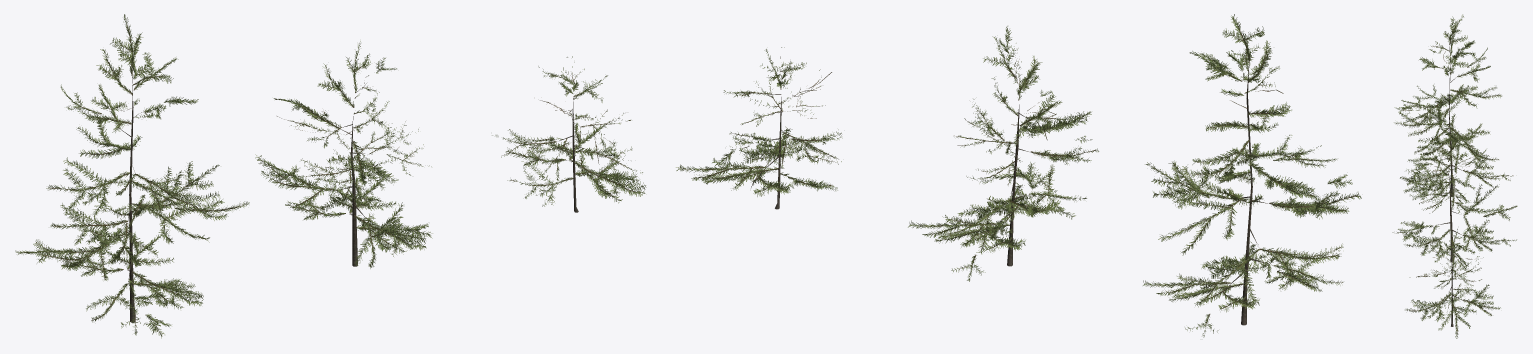
Rendered from fir_sapling_mid.glb.
3 views of the same model, side by side, from view 1: azimuth 30°, elevation 25°; view 2: azimuth 150°, elevation 25°; view 3: azimuth 270°, elevation 25° (orthographic). The views are drawn at different scales.
Parts seen in each view (by area): view 1: fir_sapling_a; view 2: fir_sapling_a; view 3: fir_sapling_a.
Part boxes in pixels (x1,y1,x2,y2): fir_sapling_a: (15, 14, 646, 338); fir_sapling_a: (676, 14, 1361, 337); fir_sapling_a: (1392, 14, 1517, 338).
Bounding box in the file's own units: 2.74 × 1.3 × 0.8172.
Materials: 2 (2 with a texture image).
